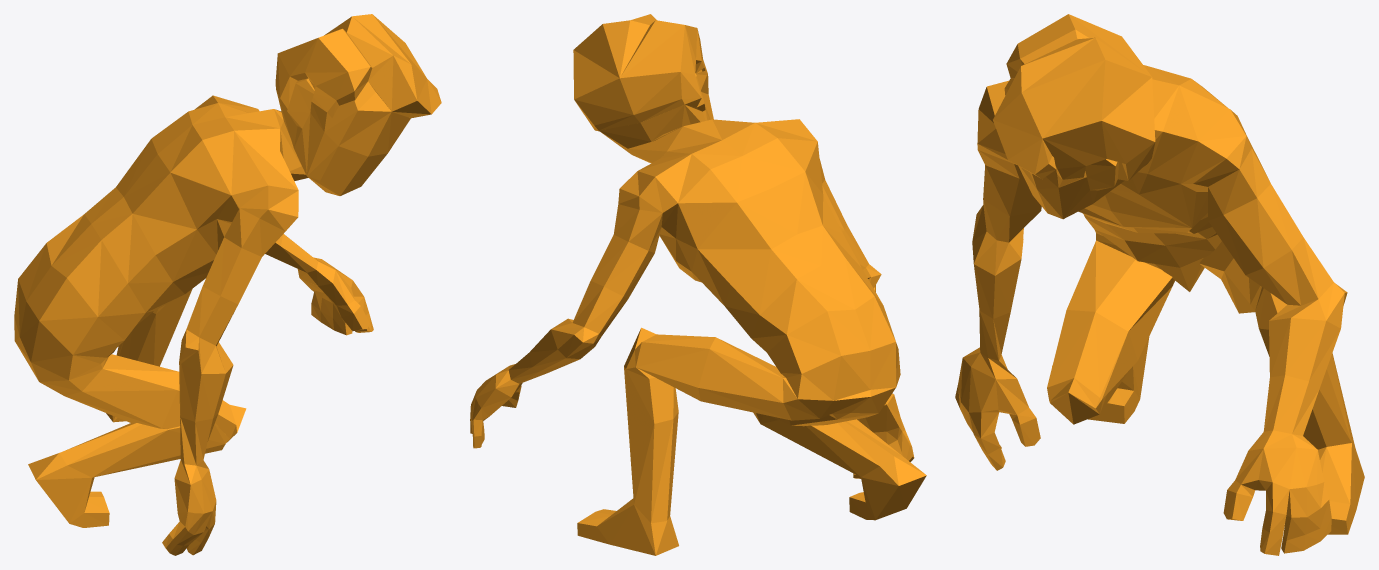
File: SM_Pawn_Cover_Male_01.fbx
3 views of the same model, side by side, from view 1: azimuth 30°, elevation 25°; view 2: azimuth 150°, elevation 25°; view 3: azimuth 270°, elevation 25° (orthographic). The views are drawn at different scales.
Parts seen in each view (by area): view 1: SM_Pawn_Cover_Male_01; view 2: SM_Pawn_Cover_Male_01; view 3: SM_Pawn_Cover_Male_01.
Boxes of the visible parts, x1,y1,x2,y2 form: SM_Pawn_Cover_Male_01: [14, 14, 441, 555]; SM_Pawn_Cover_Male_01: [470, 14, 926, 555]; SM_Pawn_Cover_Male_01: [955, 14, 1364, 555].
Size of the model in its own units: 101 by 109 by 74.12.
